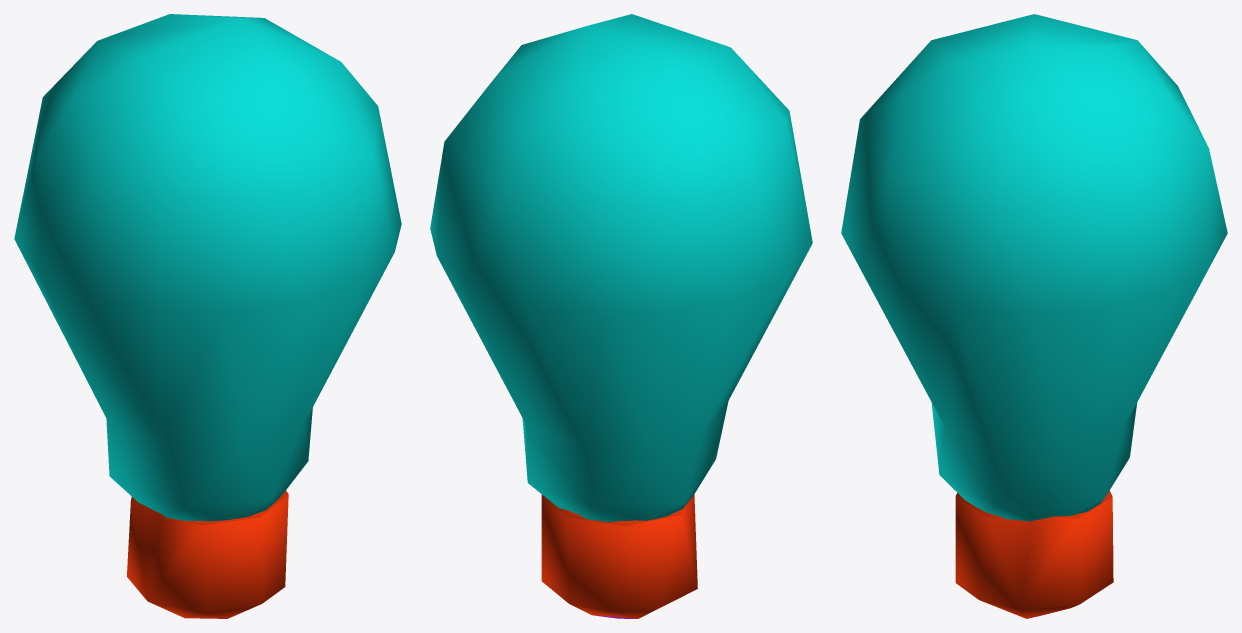
3 renders of one model, left to right at view 1: azimuth 30°, elevation 25°; view 2: azimuth 150°, elevation 25°; view 3: azimuth 270°, elevation 25°, orthographic.
Visible parts, largest first — view 1: #LMP0003_Light_Bulb_Low_Poly; view 2: #LMP0003_Light_Bulb_Low_Poly; view 3: #LMP0003_Light_Bulb_Low_Poly.
Part boxes in pixels (x1,y1,x2,y2): #LMP0003_Light_Bulb_Low_Poly: [14, 14, 401, 618]; #LMP0003_Light_Bulb_Low_Poly: [430, 14, 812, 618]; #LMP0003_Light_Bulb_Low_Poly: [841, 14, 1227, 618].
Bounding box in the file's own units: 91.92 × 153 × 91.92.
